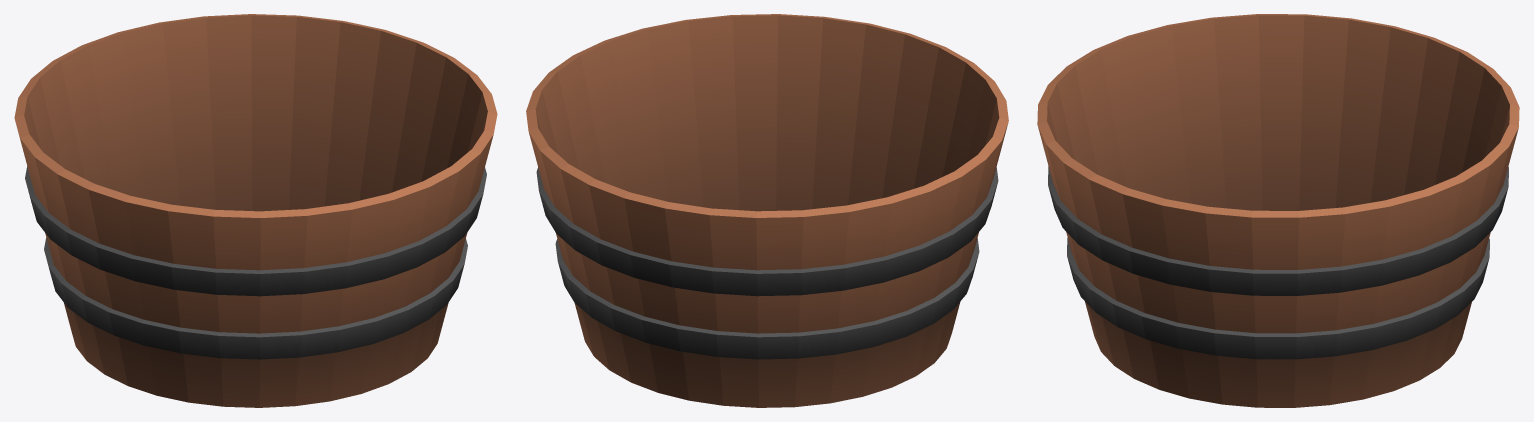
Rendered from Med Light Wooden Bucket.fbx.
3 views of the same model, side by side, from view 1: azimuth 30°, elevation 25°; view 2: azimuth 150°, elevation 25°; view 3: azimuth 270°, elevation 25° (orthographic).
Visible parts, largest first — view 1: Med Light Wooden Bucket; view 2: Med Light Wooden Bucket; view 3: Med Light Wooden Bucket.
Boxes of the visible parts, <box> form: Med Light Wooden Bucket: <box>14,14,497,407</box>; Med Light Wooden Bucket: <box>526,14,1008,407</box>; Med Light Wooden Bucket: <box>1037,14,1519,407</box>.
Bounding box in the file's own units: 133 × 268 × 268.
Materials: 1 (1 with a texture image).
